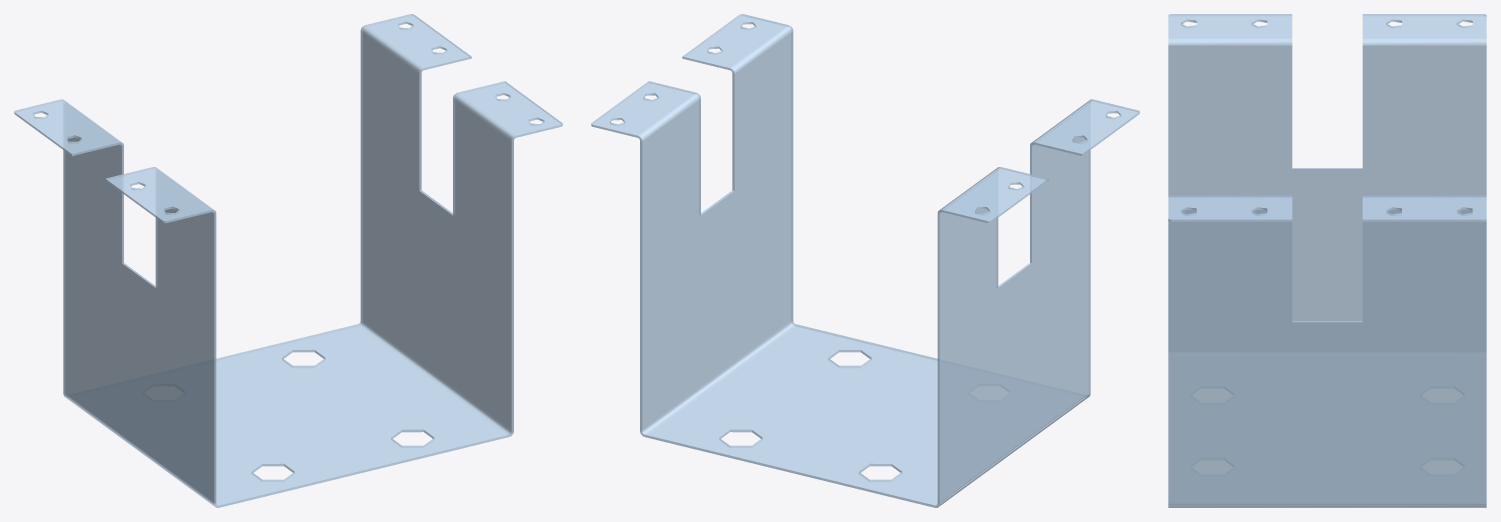
File: 2KSO351000.glb
The picture shows the model from 3 angles, left to right: view 1: azimuth 30°, elevation 25°; view 2: azimuth 150°, elevation 25°; view 3: azimuth 270°, elevation 25°; orthographic projection. The views are drawn at different scales.
Parts seen in each view (by area): view 1: 2; view 2: 2; view 3: 2.
Boxes of the visible parts, <box> form: 2: <box>14,14,562,507</box>; 2: <box>591,14,1139,507</box>; 2: <box>1168,14,1486,507</box>.
Size of the model in its own units: 0.1375 by 0.0985 by 0.09.
